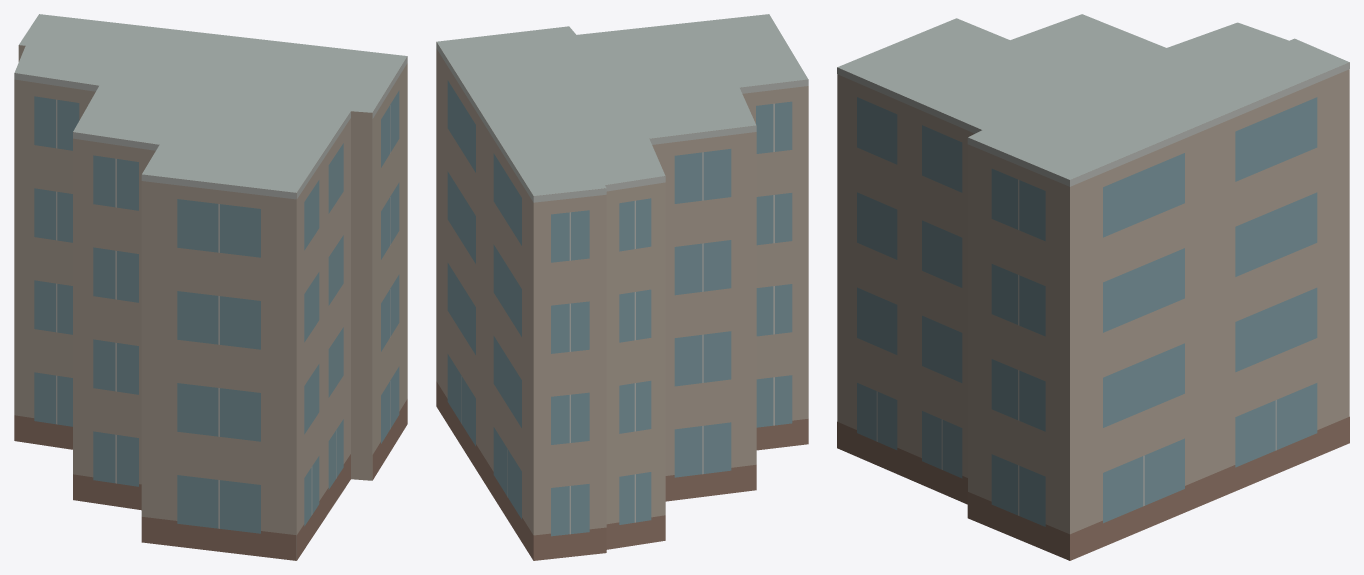
File: survey-upis-32575616.glb
3 renders of one model, left to right at view 1: azimuth 30°, elevation 25°; view 2: azimuth 150°, elevation 25°; view 3: azimuth 270°, elevation 25°, orthographic. The views are drawn at different scales.
Visible parts, largest first — view 1: survey-upis-32575616.tmp; view 2: survey-upis-32575616.tmp; view 3: survey-upis-32575616.tmp.
Part boxes in pixels (x1=…): survey-upis-32575616.tmp: x1=14, y1=14, x2=407, y2=560; survey-upis-32575616.tmp: x1=436, y1=14, x2=808, y2=560; survey-upis-32575616.tmp: x1=837, y1=14, x2=1349, y2=560.
Size of the model in its own units: 12.72 by 13.6 by 16.6.
